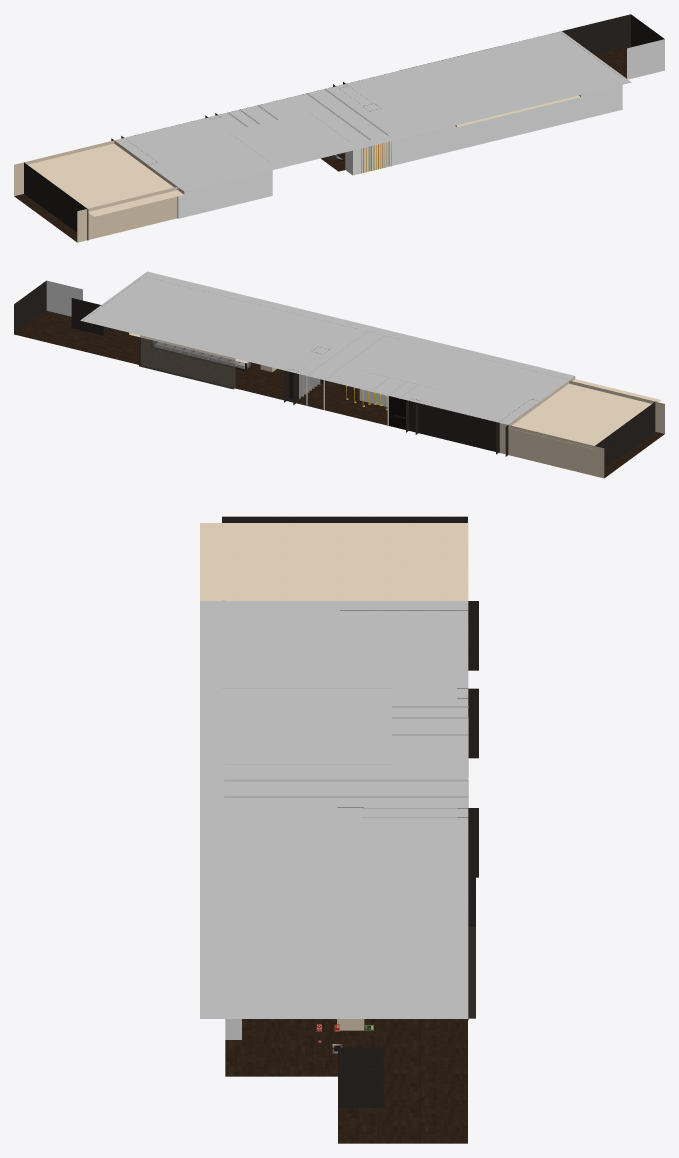
File: salaReyesEuropa.FBX
3 renders of one model, top to bottom at view 1: azimuth 30°, elevation 25°; view 2: azimuth 150°, elevation 25°; view 3: azimuth 270°, elevation 25°, orthographic. The views are drawn at different scales.
Visible parts, largest first — view 1: salaReyesEuropa, trompetas; view 2: salaReyesEuropa, Glass_Sala_ReyesdeEuropa, pedestal, separador; view 3: salaReyesEuropa.
Part boxes in pixels (x1,y1,x2,y2): salaReyesEuropa: (14,14,664,242); trompetas: (361,141,391,173); salaReyesEuropa: (14,271,664,478); Glass_Sala_ReyesdeEuropa: (140,335,250,388); pedestal: (155,342,248,368); separador: (289,358,320,398); salaReyesEuropa: (200,516,478,1143).
Bounding box in the file's own units: 2420 × 121 × 496.
